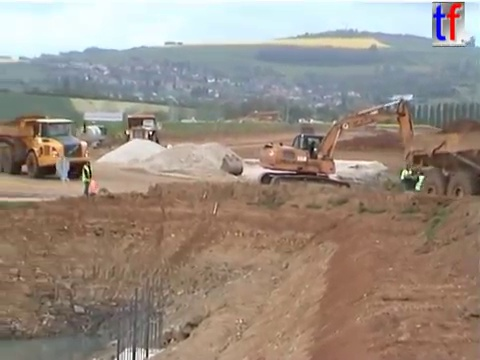excavator: (255, 95, 428, 200)
truck: (402, 125, 480, 210), (1, 112, 93, 180), (122, 112, 162, 151), (74, 118, 110, 152), (408, 170, 427, 201), (299, 122, 315, 138), (362, 118, 378, 133)
worker: (79, 157, 95, 198), (398, 163, 415, 195)
